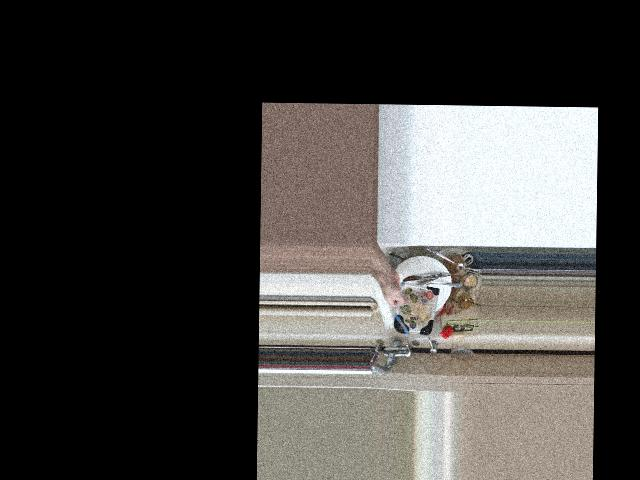cheese: (380, 274, 437, 338)
